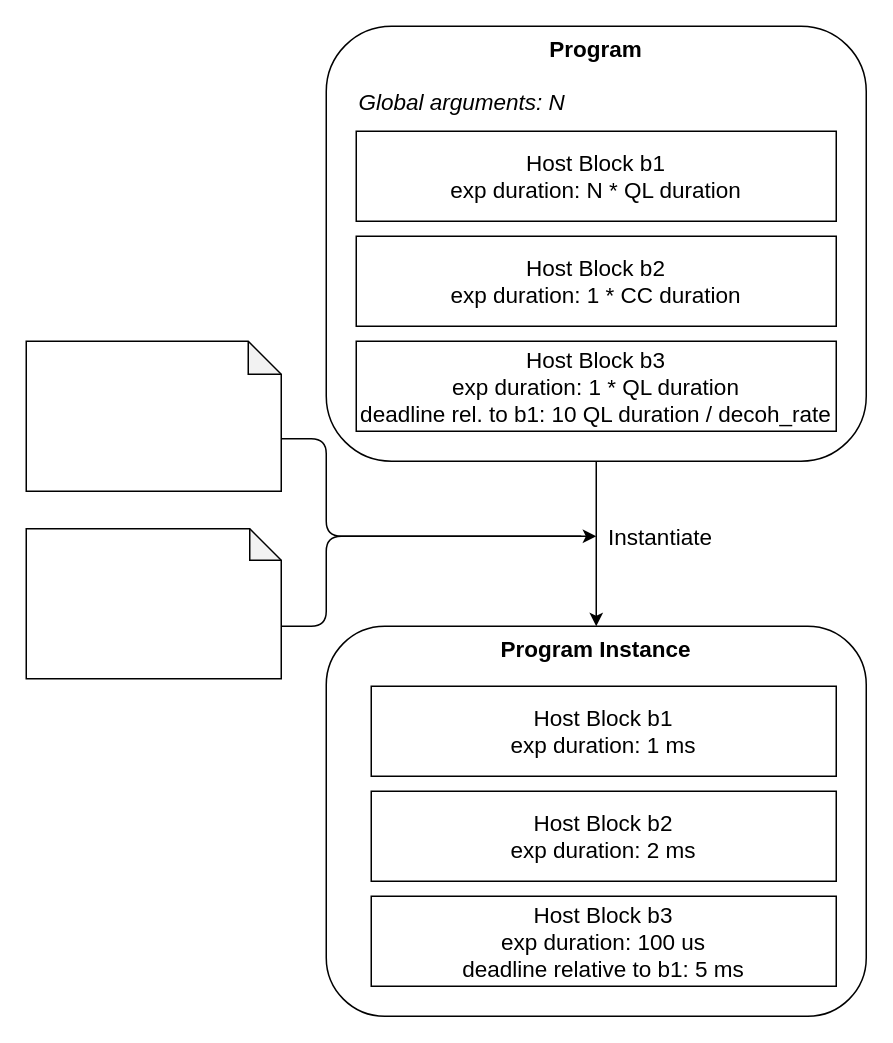
This 893x1043 diagram has some shape labels left out. The shapes that lost their labels are listed below. From the top down, each one's centre as x and y in pixels, then its label:
point (153, 415): EHI: QL duration = 100us CC duration = 2 ms decoherence rate: 0.2
point (153, 603): Global arguments: N = 10
